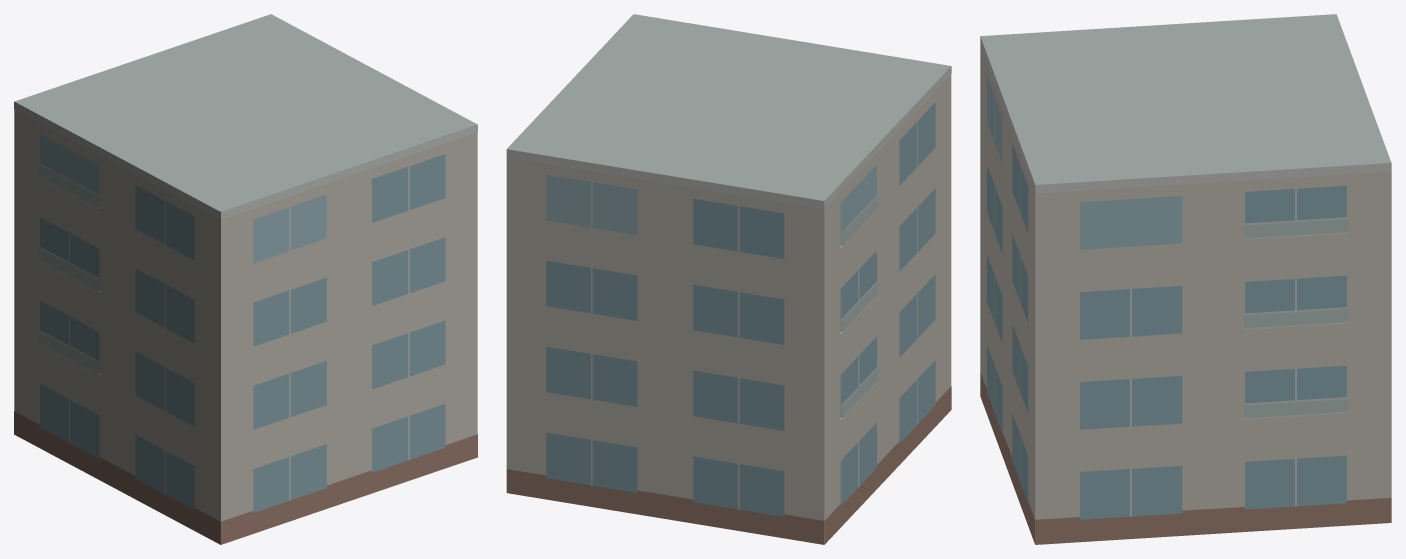
Rendered from survey-upis-33046904.glb.
3 renders of one model, left to right at view 1: azimuth 30°, elevation 25°; view 2: azimuth 150°, elevation 25°; view 3: azimuth 270°, elevation 25°, orthographic. The views are drawn at different scales.
Parts seen in each view (by area): view 1: survey-upis-33046904.tmp; view 2: survey-upis-33046904.tmp; view 3: survey-upis-33046904.tmp.
Boxes of the visible parts, x1=… form: survey-upis-33046904.tmp: x1=14, y1=14, x2=477, y2=544; survey-upis-33046904.tmp: x1=506, y1=14, x2=951, y2=544; survey-upis-33046904.tmp: x1=980, y1=14, x2=1391, y2=544.
Bounding box in the file's own units: 10.61 × 10.4 × 10.78.
